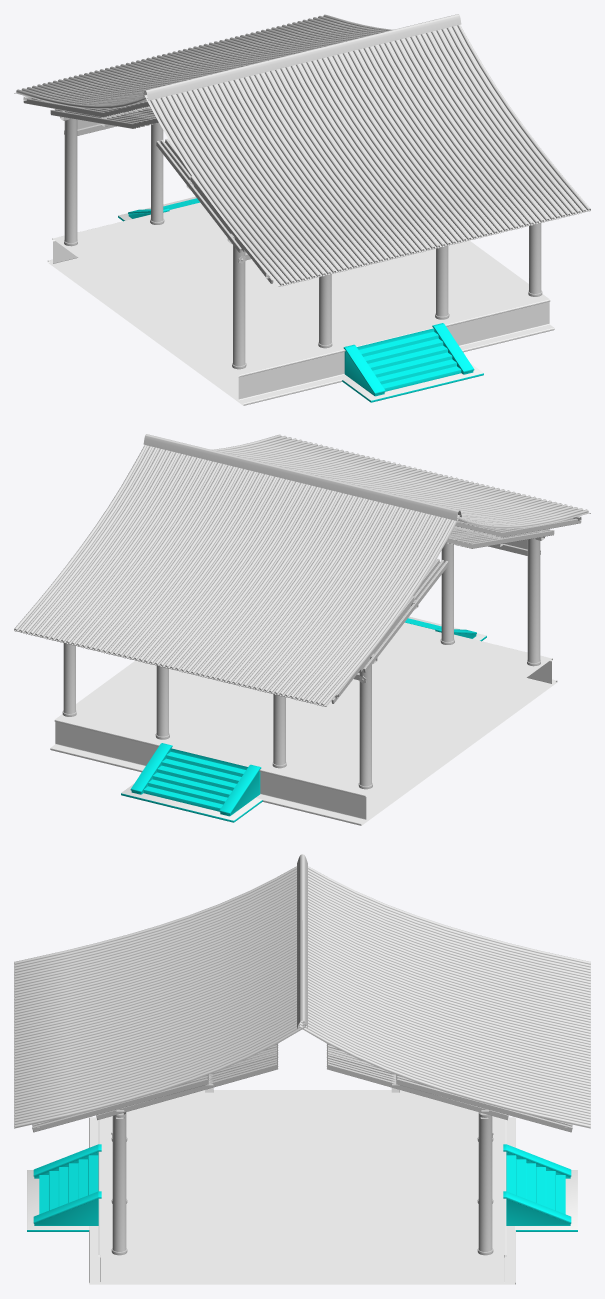
The model's file is Wall Big Loop 2.fbx.
3 renders of one model, top to bottom at view 1: azimuth 30°, elevation 25°; view 2: azimuth 150°, elevation 25°; view 3: azimuth 270°, elevation 25°, orthographic. The views are drawn at different scales.
Parts seen in each view (by area): view 1: S_Heiankyo_Building_Roof_Long.001, S_Heiankyo_Building_Foundation_Loop.013, S_Heiankyo_Building_StairSmall.010, S_Heiankyo_Building_UnderRoof_Long.001, S_Heiankyo_Building_Pillar_2.016, S_Heiankyo_Building_Pillar_2.010, S_Heiankyo_Building_Pillar_2.015, S_Heiankyo_Building_Pillar_2.009; view 2: S_Heiankyo_Building_Roof_Long.001, S_Heiankyo_Building_Foundation_Loop.013, S_Heiankyo_Building_StairSmall.010, S_Heiankyo_Building_UnderRoof_Long.001, S_Heiankyo_Building_Pillar_2.016, S_Heiankyo_Building_Pillar_2.010, S_Heiankyo_Building_Pillar_2.015, S_Heiankyo_Building_Pillar_2.009; view 3: S_Heiankyo_Building_Roof_Long.001, S_Heiankyo_Building_Foundation_Loop.013, S_Heiankyo_Building_StairSmall.010, S_Heiankyo_Building_UnderRoof_Long.001, S_Heiankyo_Building_Pillar_2.015.
Part boxes in pixels (bbox=[...]): S_Heiankyo_Building_Roof_Long.001: bbox=[14, 14, 590, 286]; S_Heiankyo_Building_Foundation_Loop.013: bbox=[47, 202, 554, 405]; S_Heiankyo_Building_StairSmall.010: bbox=[118, 196, 483, 402]; S_Heiankyo_Building_UnderRoof_Long.001: bbox=[23, 96, 273, 283]; S_Heiankyo_Building_Pillar_2.016: bbox=[64, 118, 246, 369]; S_Heiankyo_Building_Pillar_2.010: bbox=[150, 122, 332, 348]; S_Heiankyo_Building_Pillar_2.015: bbox=[528, 223, 542, 296]; S_Heiankyo_Building_Pillar_2.009: bbox=[435, 245, 449, 319]; S_Heiankyo_Building_Roof_Long.001: bbox=[14, 434, 590, 706]; S_Heiankyo_Building_Foundation_Loop.013: bbox=[50, 622, 557, 825]; S_Heiankyo_Building_StairSmall.010: bbox=[121, 616, 486, 822]; S_Heiankyo_Building_UnderRoof_Long.001: bbox=[331, 516, 581, 703]; S_Heiankyo_Building_Pillar_2.016: bbox=[358, 538, 540, 789]; S_Heiankyo_Building_Pillar_2.010: bbox=[272, 542, 454, 768]; S_Heiankyo_Building_Pillar_2.015: bbox=[62, 643, 76, 716]; S_Heiankyo_Building_Pillar_2.009: bbox=[155, 665, 169, 739]; S_Heiankyo_Building_Roof_Long.001: bbox=[14, 854, 590, 1128]; S_Heiankyo_Building_Foundation_Loop.013: bbox=[89, 1090, 515, 1284]; S_Heiankyo_Building_StairSmall.010: bbox=[27, 1144, 577, 1231]; S_Heiankyo_Building_UnderRoof_Long.001: bbox=[32, 1043, 572, 1132]; S_Heiankyo_Building_Pillar_2.015: bbox=[111, 1112, 493, 1255].
Size of the model in its own units: 813 by 603 by 1189.
